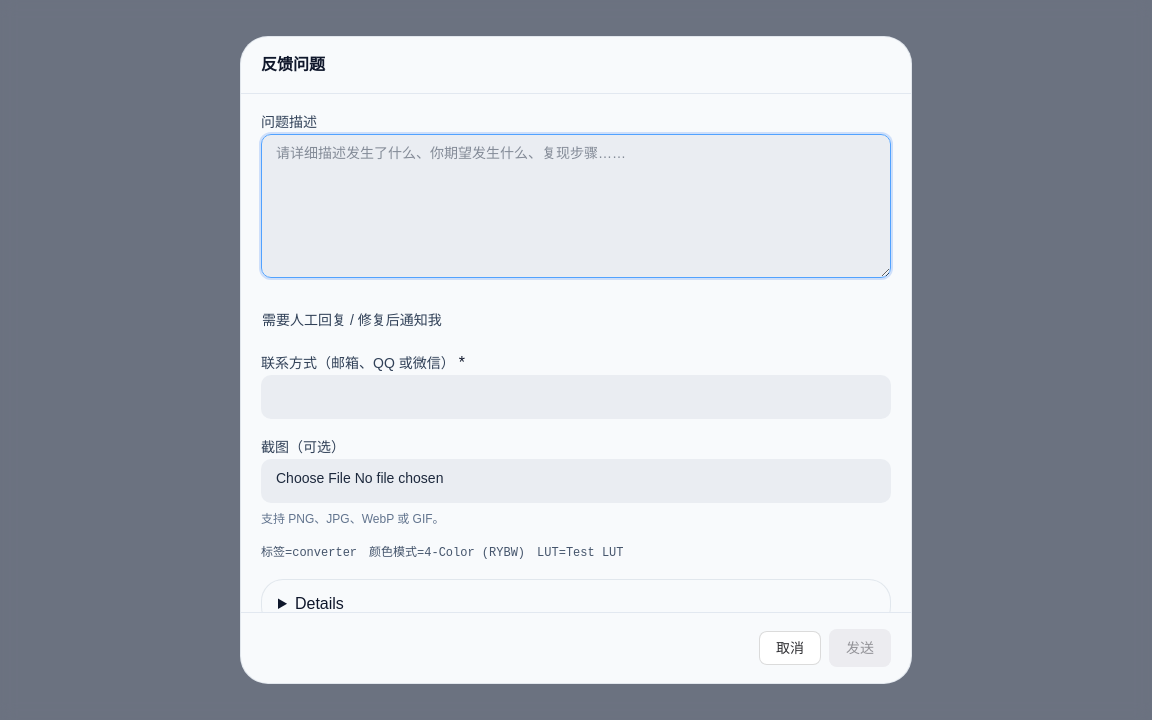
Test: BugReportModal › shows the session_fallback original-image result
In the text box labelled "问题描述": x=576, y=206 [261, 134, 891, 278], type "Check source attachment status."
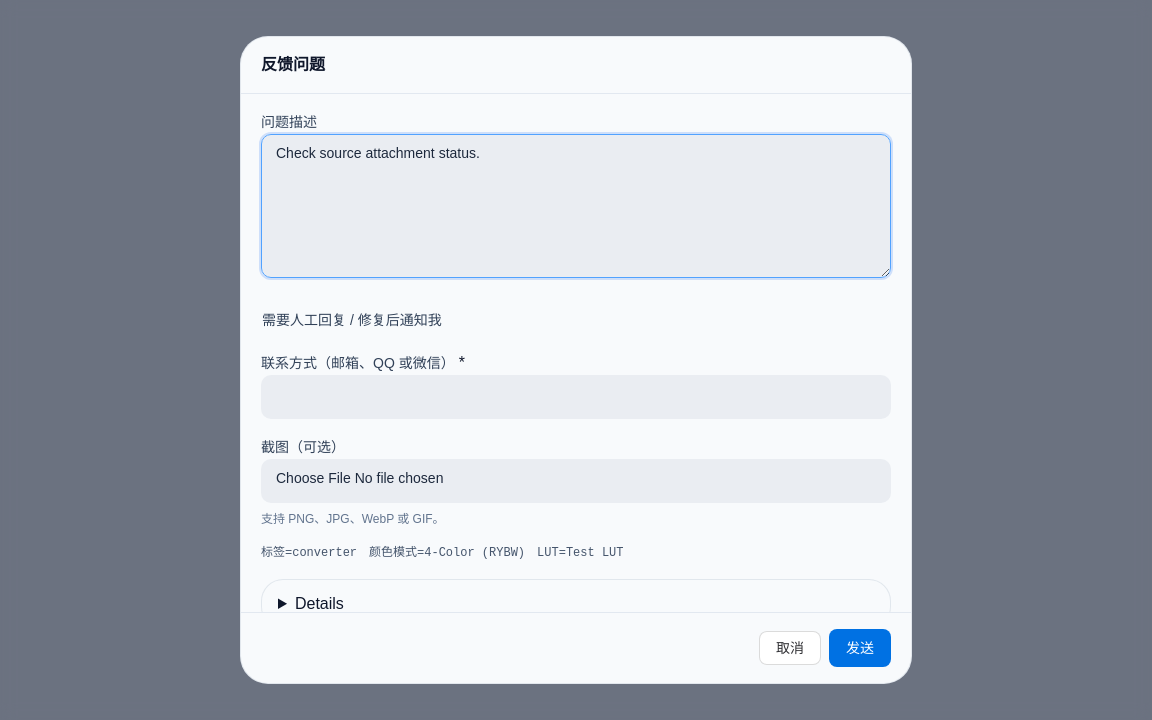
Click the switch labelled "需要人工回复 / 修复后通知我": x=352, y=320 [262, 310, 442, 330]
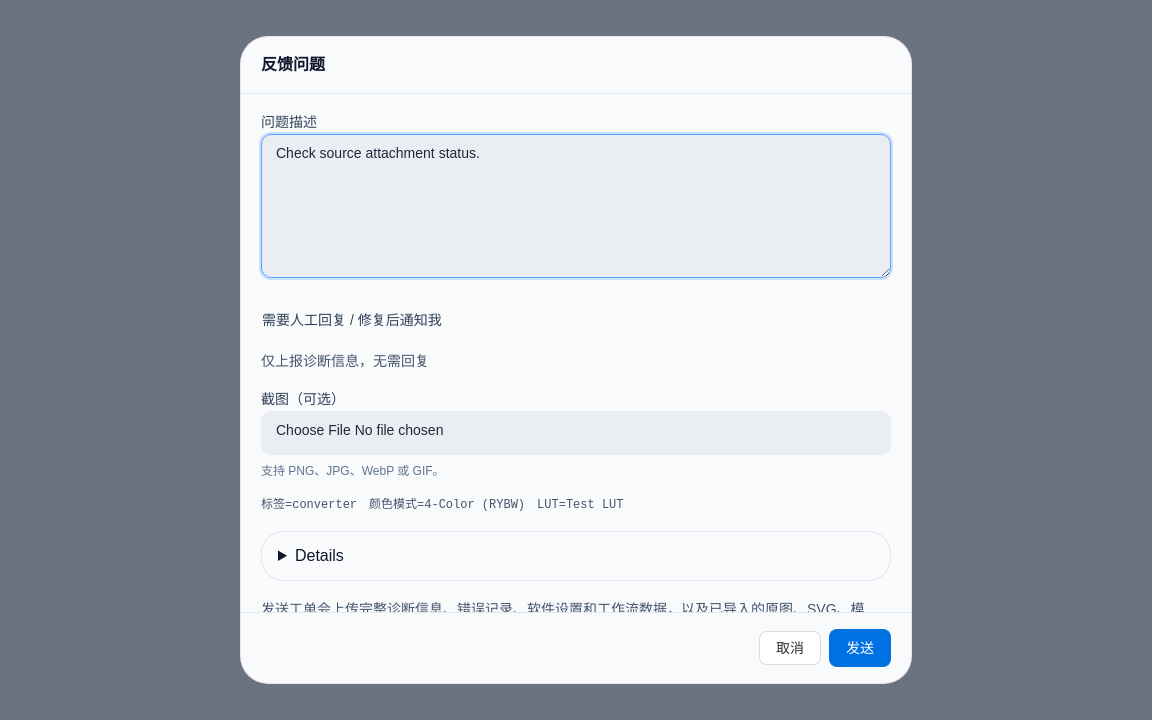
Click the button "发送": x=860, y=648 [829, 629, 891, 667]
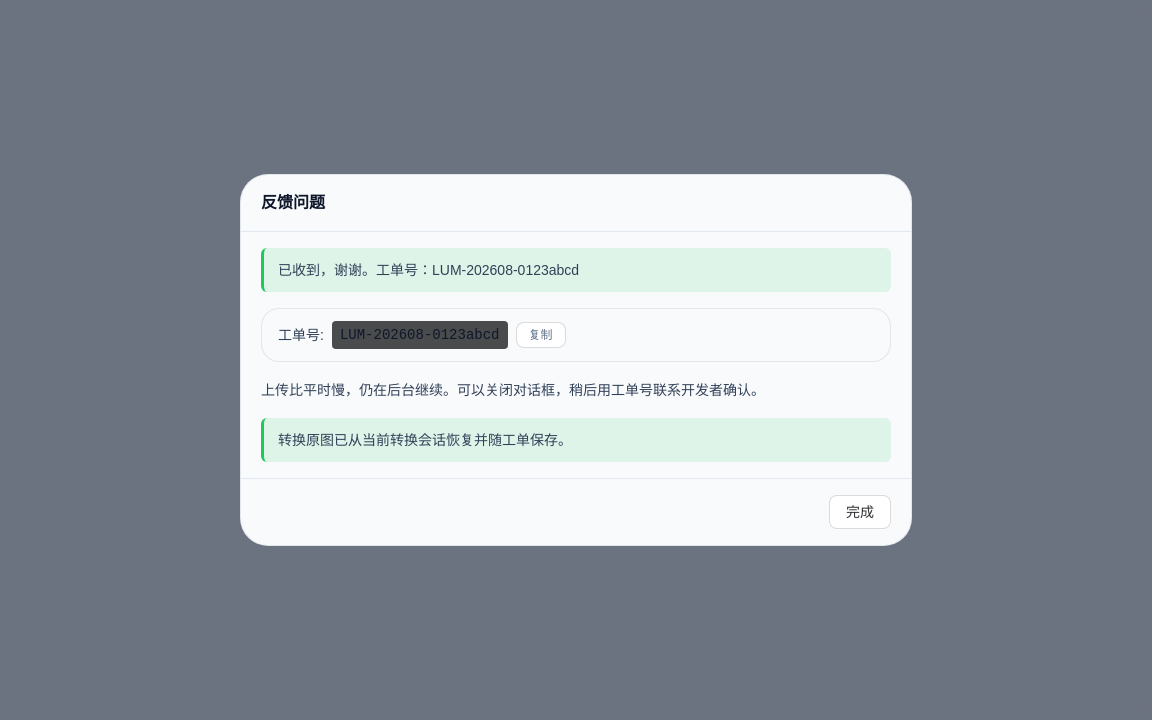
Now the text with test id "bug-report-original-image-status" shows "转换原图已从当前转换会话恢复", box [278, 432, 572, 448]
